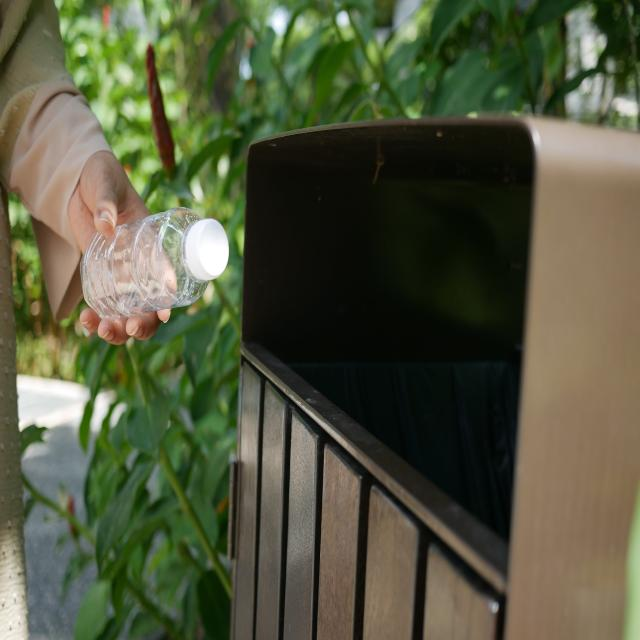plastic: (102, 222, 212, 309)
